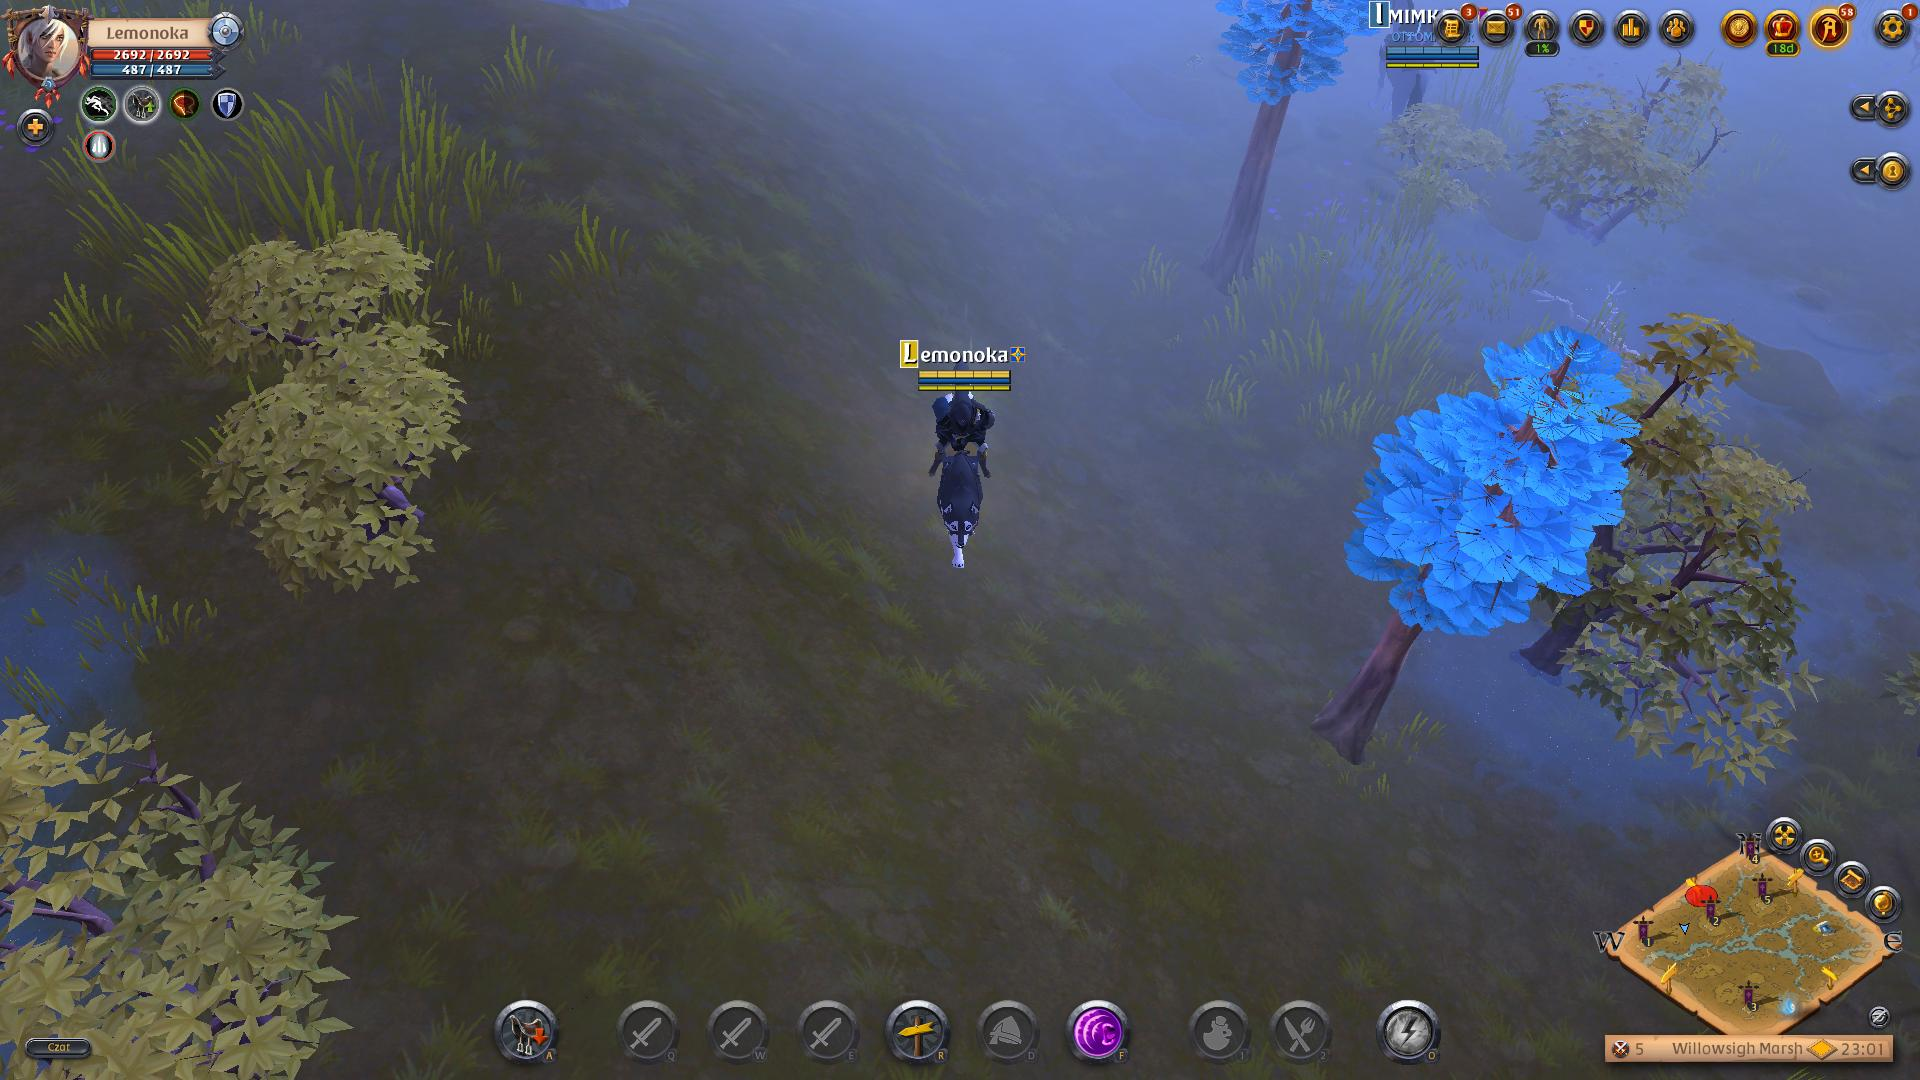wood tier 4: (1346, 323, 1643, 649)
